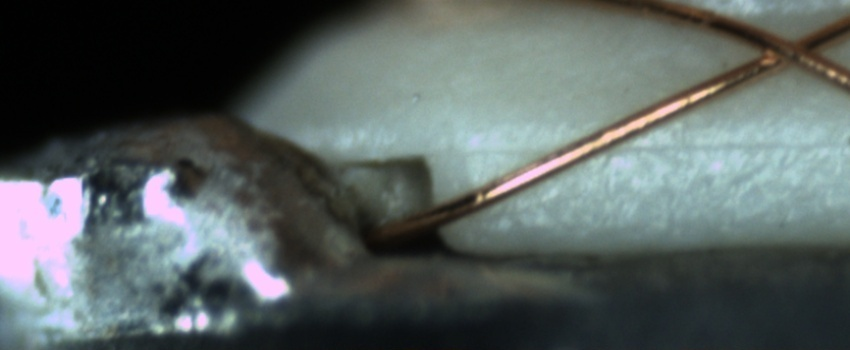CL: (739, 18, 842, 79)
DL: (465, 112, 849, 178)
